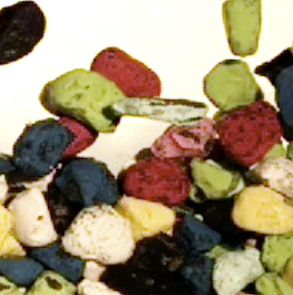black: (98, 265, 195, 295), (130, 238, 185, 270)
blue: (47, 159, 119, 215), (11, 120, 68, 179), (170, 212, 221, 259), (178, 259, 213, 295)
green: (39, 67, 122, 134), (204, 60, 261, 113), (109, 96, 208, 126), (214, 249, 265, 295), (190, 157, 241, 199)
pink: (146, 121, 214, 160)
red: (211, 107, 282, 169), (92, 43, 161, 101), (119, 157, 189, 207), (55, 116, 95, 158)
white: (61, 204, 132, 265), (7, 189, 58, 247)
yellow: (232, 184, 293, 234)
